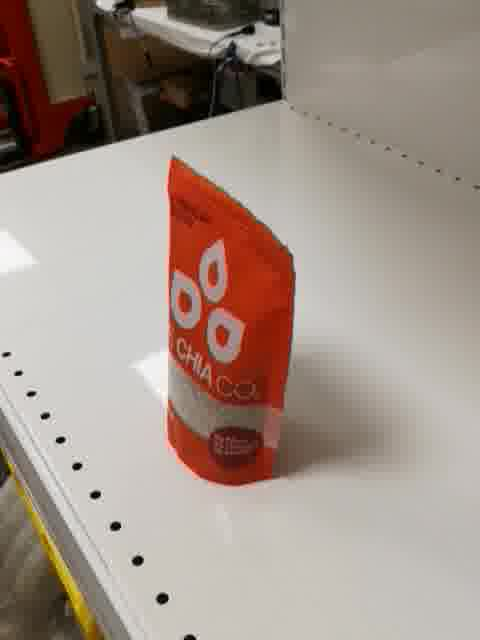whitechia: (161, 152, 299, 489)
